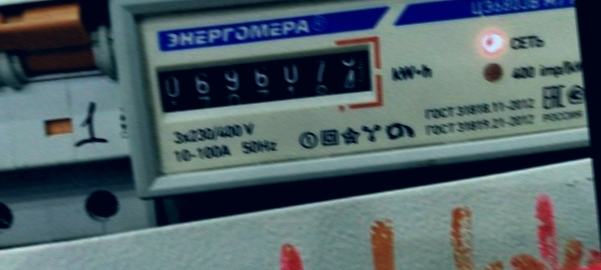0: (161, 70, 181, 95), (281, 55, 298, 82)
4: (339, 64, 357, 89)
6: (191, 66, 211, 92), (251, 59, 270, 85)
7: (311, 54, 328, 81)
9: (221, 63, 240, 89)
screen: (140, 26, 389, 125)
